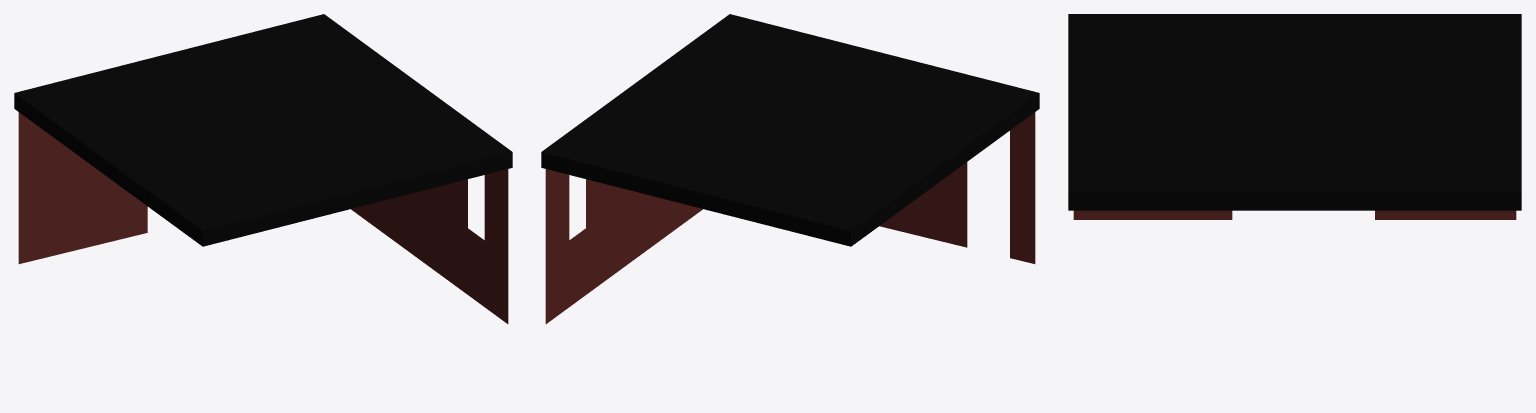
The model's file is Lounge.fbx.
3 views of the same model, side by side, from view 1: azimuth 30°, elevation 25°; view 2: azimuth 150°, elevation 25°; view 3: azimuth 270°, elevation 25° (orthographic). The views are drawn at different scales.
Visible parts, largest first — view 1: Lounge; view 2: Lounge; view 3: Lounge.
Part boxes in pixels (bbox=[...]): Lounge: bbox=[14, 14, 512, 323]; Lounge: bbox=[541, 14, 1039, 323]; Lounge: bbox=[1068, 14, 1521, 219].
Size of the model in its own units: 454 by 243 by 479.
